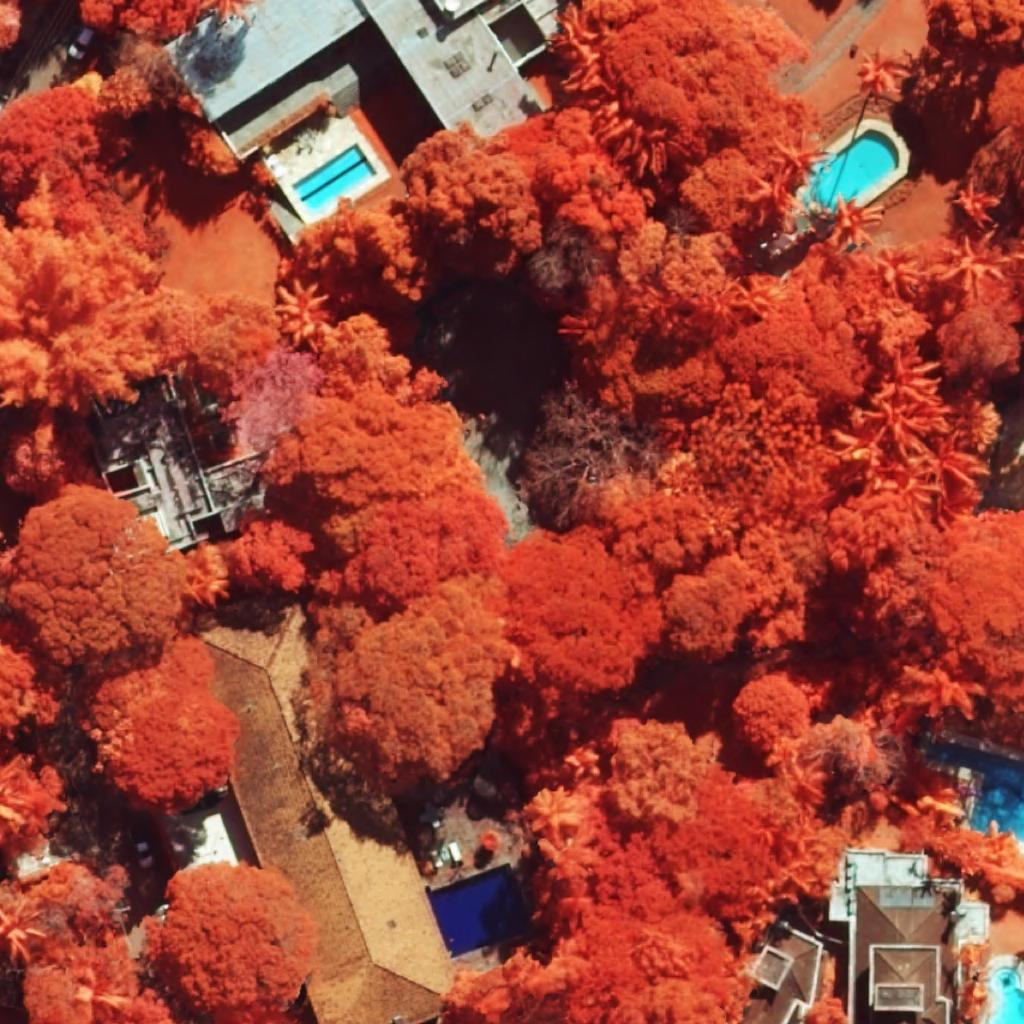pool: (426, 863, 534, 959), (927, 743, 1024, 843), (811, 129, 899, 212), (292, 143, 376, 216), (991, 965, 1024, 1024)
